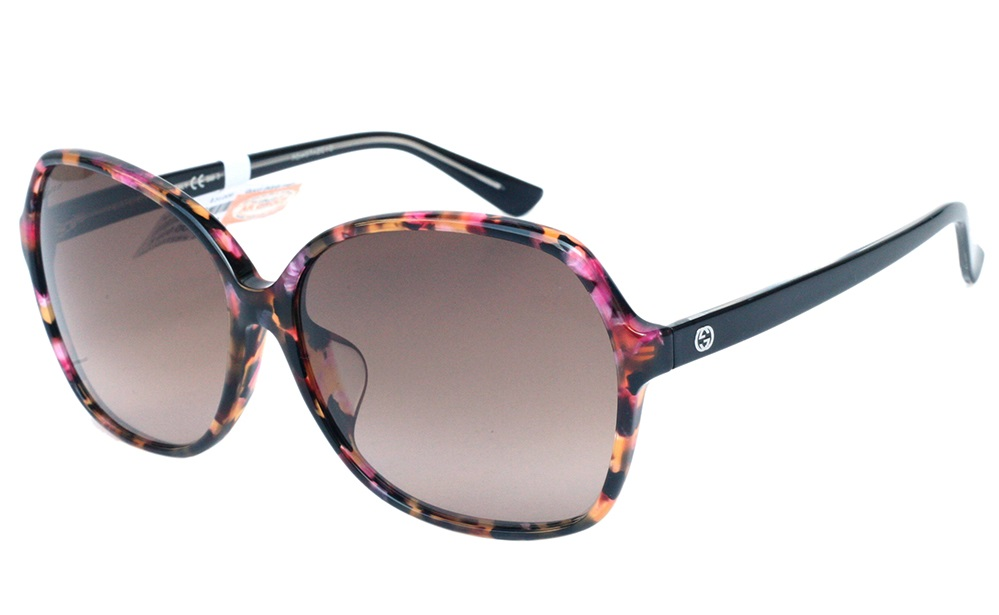Gucci: (688, 319, 721, 358)
